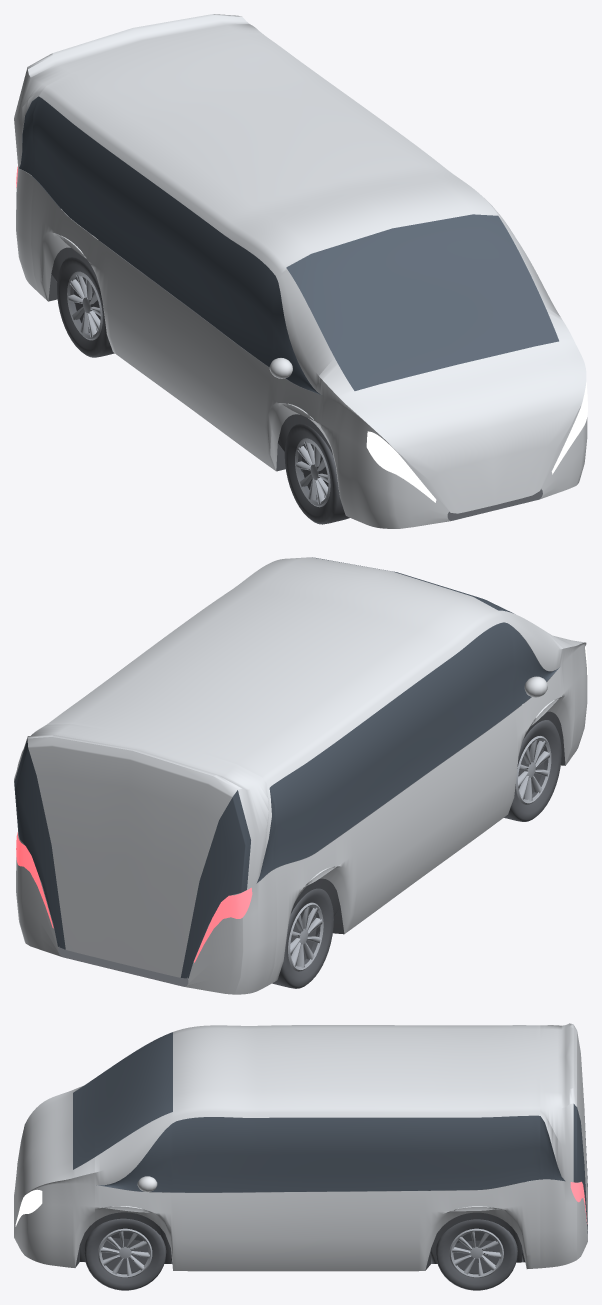
File: tesla_fsd_van.glb
3 views of the same model, one above another, from view 1: azimuth 30°, elevation 25°; view 2: azimuth 150°, elevation 25°; view 3: azimuth 270°, elevation 25° (orthographic). The views are drawn at different scales.
Parts seen in each view (by area): view 1: TeslaFSDMinivan; view 2: TeslaFSDMinivan; view 3: TeslaFSDMinivan.
Boxes of the visible parts, box(x1,y1,x2,y2) form: TeslaFSDMinivan: box(14, 14, 587, 528); TeslaFSDMinivan: box(14, 557, 587, 994); TeslaFSDMinivan: box(14, 1023, 587, 1290).
Size of the model in its own units: 2.2 by 1.94 by 5.16.
